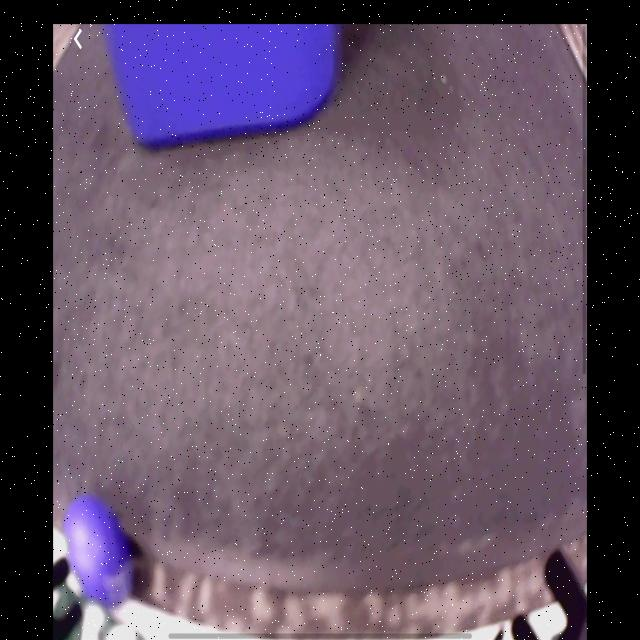ball: (63, 498, 131, 610)
